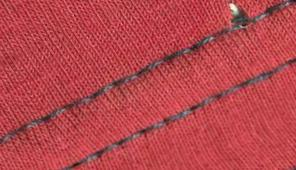hole: (226, 0, 245, 21)
